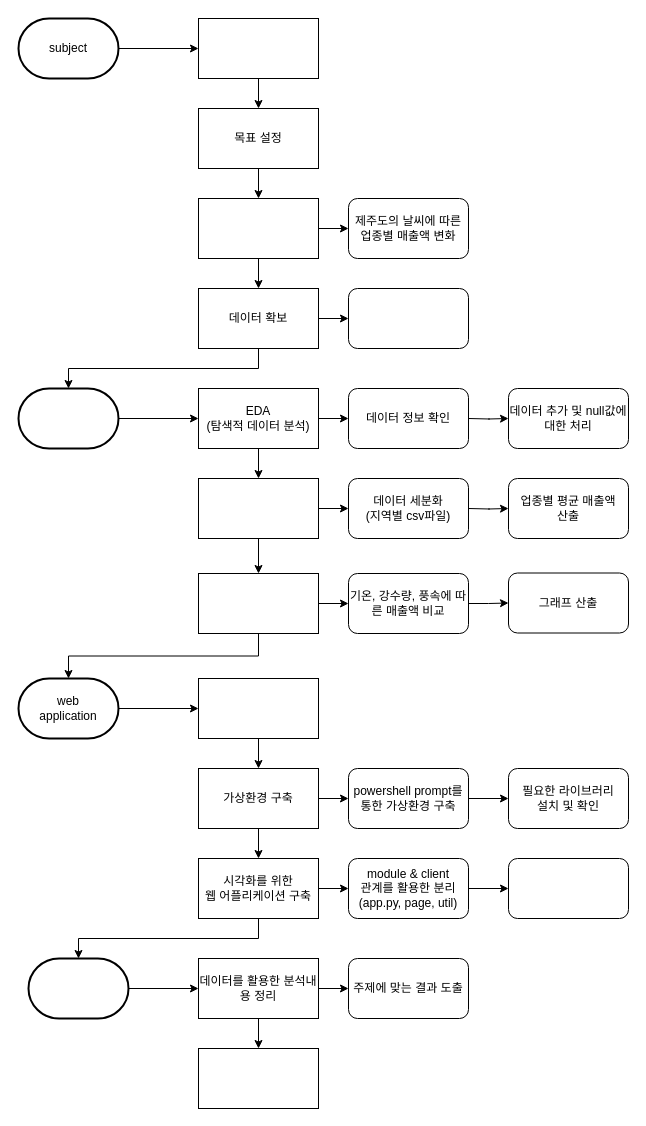
The diagram is 646 pixels wide and 1126 high, and some of its shapes have lost their labels. The shapes that lost their labels are listed below. From the top down, each one's box as (x1, y1, x2, y2) in pixels, then its label:
(198, 18, 318, 78): 사전 연구 조사
(198, 198, 318, 258): 주제 선정
(348, 288, 468, 348): 공공데이터 포털 활용
(17, 387, 119, 449): data analysis
(198, 478, 318, 538): 데이터 분석 방법 계획 및 전처리
(198, 572, 318, 634): 데이터 분석
(198, 678, 318, 738): 분석 내용시각화
(508, 858, 628, 918): streamlit을 활용한 시각화
(27, 957, 129, 1019): result
(198, 1048, 318, 1108): 결과값에 대한 추가분석
